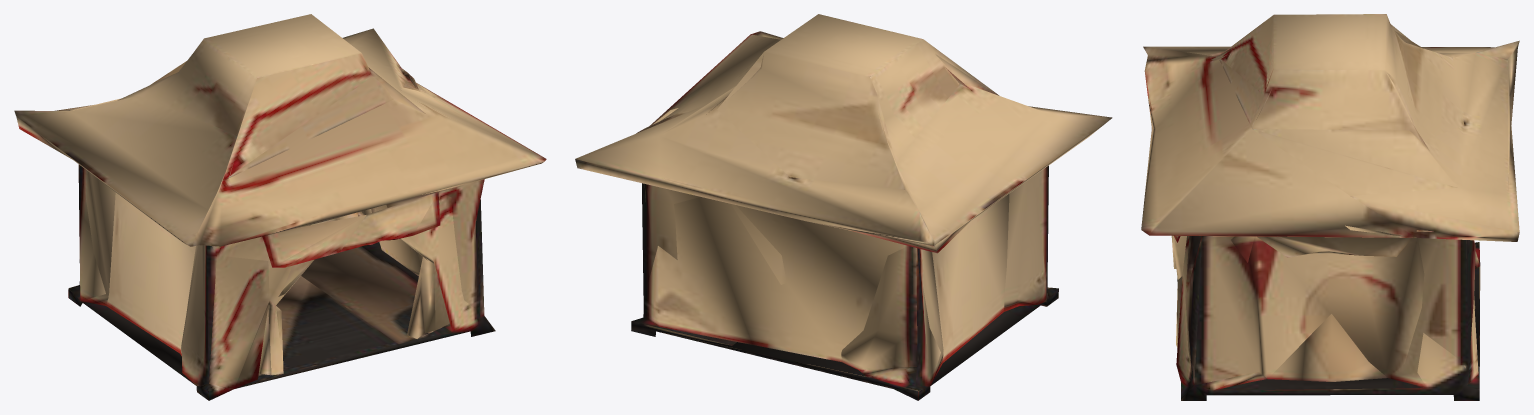
Rendered from tent.glb.
The picture shows the model from 3 angles, left to right: view 1: azimuth 30°, elevation 25°; view 2: azimuth 150°, elevation 25°; view 3: azimuth 270°, elevation 25°; orthographic projection. The views are drawn at different scales.
Visible parts, largest first — view 1: environment-tent-background, environment-tent; view 2: environment-tent, environment-tent-background; view 3: environment-tent, environment-tent-background.
Part boxes in pixels (x1=…): environment-tent-background: x1=17, y1=53, x2=545, y2=388; environment-tent: x1=14, y1=14, x2=546, y2=400; environment-tent: x1=575, y1=14, x2=1111, y2=400; environment-tent-background: x1=636, y1=34, x2=1112, y2=385; environment-tent: x1=1141, y1=14, x2=1519, y2=400; environment-tent-background: x1=1144, y1=15, x2=1494, y2=390.
Bounding box in the file's own units: 70 × 50 × 60.
1 material, 1 textured.
